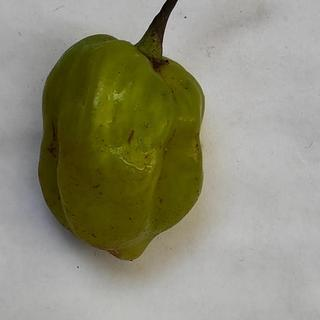Defect: (138, 48, 178, 79)
Fly-bites: (156, 195, 168, 207), (124, 212, 134, 223), (90, 231, 98, 240)
striped: (125, 126, 136, 146)
